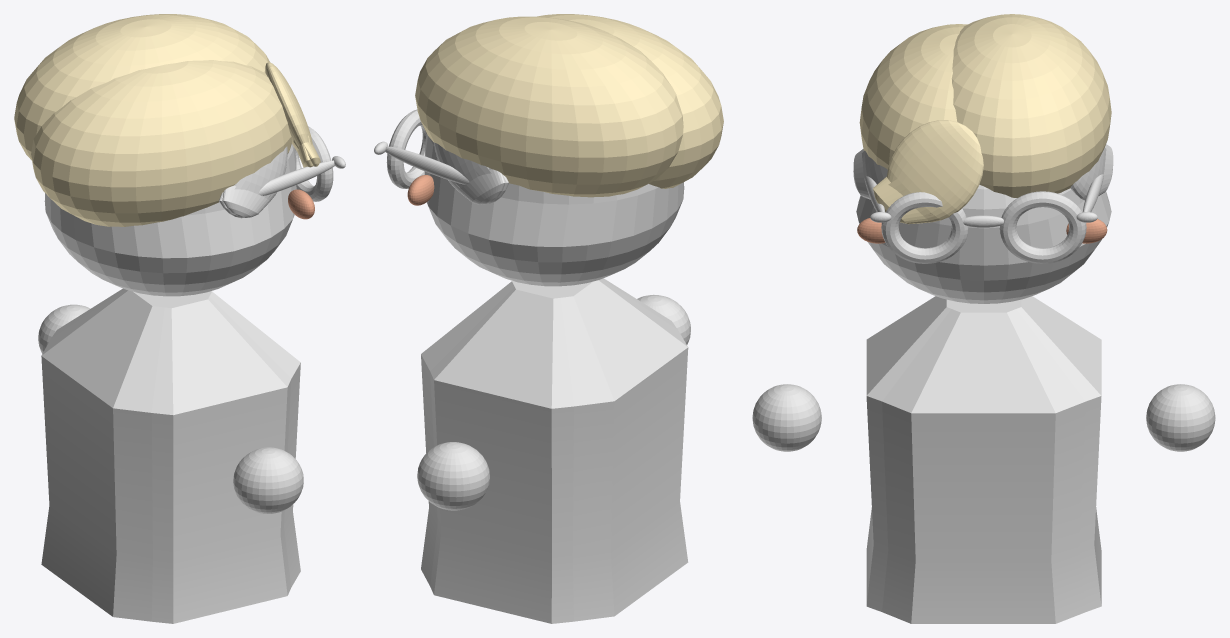
File: Horace_glasses.fbx
3 renders of one model, left to right at view 1: azimuth 30°, elevation 25°; view 2: azimuth 150°, elevation 25°; view 3: azimuth 270°, elevation 25°, orthographic. The views are drawn at different scales.
Parts seen in each view (by area): view 1: Cube, Sphere.034, Sphere, Sphere.035, Sphere.001, Sphere.037, Sphere.036, Torus.001, Sphere.039, Sphere.004; view 2: Cube, Sphere.035, Sphere, Sphere.034, Sphere.001, Sphere.038, Torus.001, Sphere.039, Sphere.004; view 3: Cube, Sphere.035, Sphere, Sphere.034, Sphere.036, Sphere.001, Torus.001, Sphere.038, Sphere.004, Sphere.037, Sphere.039.
Boxes of the visible parts, bbox=[...] form: Cube: bbox=[41, 288, 300, 623]; Sphere.034: bbox=[31, 60, 291, 226]; Sphere: bbox=[44, 144, 296, 296]; Sphere.035: bbox=[14, 14, 269, 160]; Sphere.001: bbox=[38, 304, 303, 513]; Sphere.037: bbox=[219, 146, 287, 218]; Sphere.036: bbox=[265, 62, 320, 167]; Torus.001: bbox=[295, 126, 333, 201]; Sphere.039: bbox=[259, 160, 334, 195]; Sphere.004: bbox=[288, 189, 314, 219]; Cube: bbox=[421, 278, 688, 623]; Sphere.035: bbox=[415, 16, 683, 197]; Sphere: bbox=[424, 133, 684, 286]; Sphere.034: bbox=[537, 14, 723, 188]; Sphere.001: bbox=[417, 294, 690, 510]; Sphere.038: bbox=[433, 142, 508, 204]; Torus.001: bbox=[386, 109, 426, 188]; Sphere.039: bbox=[385, 146, 469, 184]; Sphere.004: bbox=[407, 175, 434, 205]; Cube: bbox=[866, 296, 1101, 623]; Sphere.035: bbox=[951, 14, 1111, 197]; Sphere: bbox=[856, 185, 1111, 303]; Sphere.034: bbox=[859, 24, 967, 169]; Sphere.036: bbox=[873, 120, 983, 224]; Sphere.001: bbox=[752, 384, 1215, 451]; Torus.001: bbox=[881, 191, 1086, 263]; Sphere.038: bbox=[1070, 144, 1113, 200]; Sphere.004: bbox=[857, 218, 1107, 243]; Sphere.037: bbox=[853, 149, 887, 199]; Sphere.039: bbox=[864, 174, 1103, 212].
Bounding box in the file's own units: 236 × 456 × 356.
